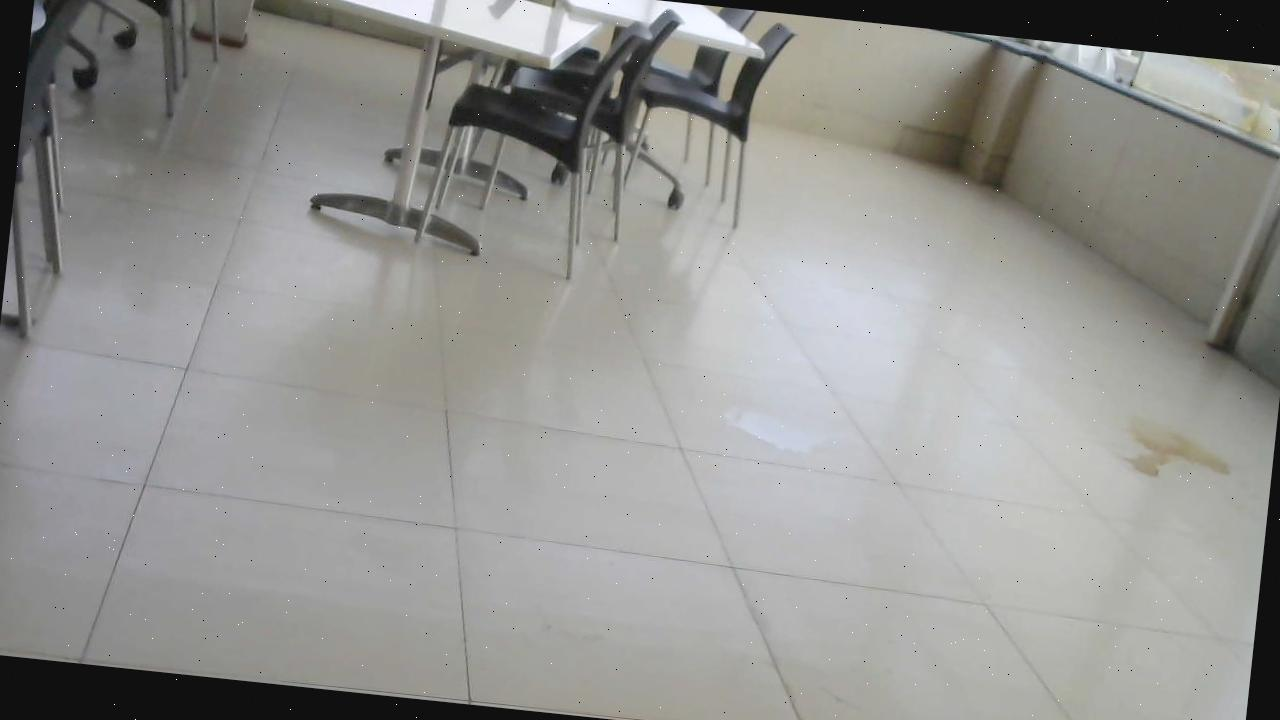dirty_floor: (1115, 408, 1242, 494), (718, 399, 831, 459)
